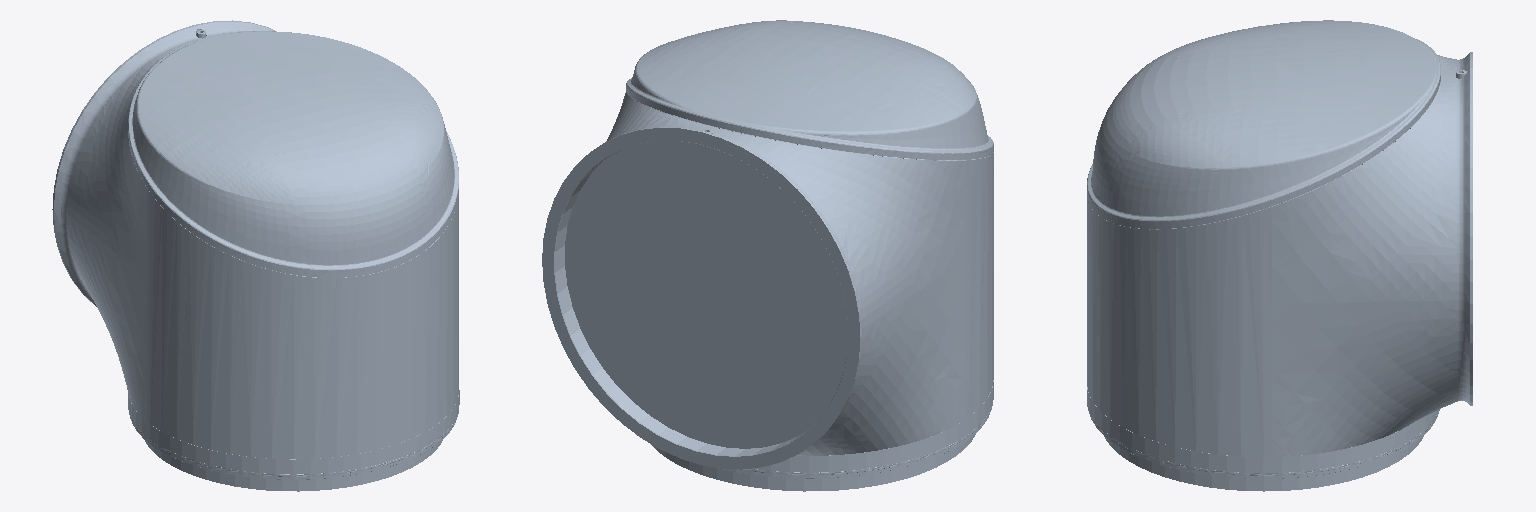
The robot description file, URDF, robot "gcr30_1100":
<?xml version="1.0" encoding="utf-8"?>
<!-- This URDF was automatically created by SolidWorks to URDF Exporter! Originally created by [author] ([email redacted]) 
     Commit Version: 1.6.0-4-g7f85cfe  Build Version: 1.6.7995.38578
     For more information, please see http://wiki.ros.org/sw_urdf_exporter -->
<robot
  name="gcr30_1100">
  <link
    name="base_link">
    <inertial>
      <origin
        xyz="1.0276E-05 0.014119 0.064841"
        rpy="0 0 0" />
      <mass
        value="2.128" />
      <inertia
        ixx="0.013624"
        ixy="-1.2075E-05"
        ixz="1.8225E-06"
        iyy="0.018307"
        iyz="0.00049878"
        izz="0.023934" />
    </inertial>
    <visual>
      <origin
        xyz="0 0 0"
        rpy="0 0 0" />
      <geometry>
        <mesh
          filename="package://duco_support/meshes/GCR30_1100/base_link.stl" />
      </geometry>
      <material
        name="">
        <color
          rgba="0.79216 0.81961 0.93333 1" />
      </material>
    </visual>
    <collision>
      <origin
        xyz="0 0 0"
        rpy="0 0 0" />
      <geometry>
        <mesh
          filename="package://duco_support/meshes/GCR30_1100/base_link.stl" />
      </geometry>
    </collision>
  </link>
  <link
    name="link_1">
    <inertial>
      <origin
        xyz="1.0951E-07 0.021145 0.0017549"
        rpy="0 0 0" />
      <mass
        value="14.725" />
      <inertia
        ixx="0.066928"
        ixy="3.4809E-07"
        ixz="2.7188E-07"
        iyy="0.06743"
        iyz="-0.0064955"
        izz="0.071272" />
    </inertial>
    <visual>
      <origin
        xyz="0 0 0"
        rpy="0 0 0" />
      <geometry>
        <mesh
          filename="package://duco_support/meshes/GCR30_1100/link_1.stl" />
      </geometry>
      <material
        name="">
        <color
          rgba="0.73333 0.78039 0.83922 1" />
      </material>
    </visual>
    <collision>
      <origin
        xyz="0 0 0"
        rpy="0 0 0" />
      <geometry>
        <mesh
          filename="package://duco_support/meshes/GCR30_1100/link_1.stl" />
      </geometry>
    </collision>
  </link>
  <joint
    name="arm_1_joint_1"
    type="revolute">
    <origin
      xyz="0 0 0.235"
      rpy="0 0 0" />
    <parent
      link="base_link" />
    <child
      link="link_1" />
    <axis
      xyz="0 0 1" />
    <limit
      lower="-3.1415926"
      upper="3.1415926"
      effort="850"
      velocity="2.094395102" />
  </joint>
  <link
    name="link_2">
    <inertial>
      <origin
        xyz="0.19999 -7.3565E-07 0.037425"
        rpy="0 0 0" />
      <mass
        value="25.912" />
      <inertia
        ixx="0.11326"
        ixy="-9.4175E-07"
        ixz="-0.0039858"
        iyy="0.16267"
        iyz="1.1586E-06"
        izz="0.16558" />
    </inertial>
    <visual>
      <origin
        xyz="0 0 0"
        rpy="0 0 0" />
      <geometry>
        <mesh
          filename="package://duco_support/meshes/GCR30_1100/link_2.stl" />
      </geometry>
      <material
        name="">
        <color
          rgba="0.79216 0.81961 0.93333 1" />
      </material>
    </visual>
    <collision>
      <origin
        xyz="0 0 0"
        rpy="0 0 0" />
      <geometry>
        <mesh
          filename="package://duco_support/meshes/GCR30_1100/link_2.stl" />
      </geometry>
    </collision>
  </link>
  <joint
    name="arm_1_joint_2"
    type="revolute">
    <origin
      xyz="0 0.1793 0"
      rpy="1.5708 -1.5708 3.1416" />
    <parent
      link="link_1" />
    <child
      link="link_2" />
    <axis
      xyz="0 0 1" />
    <limit
      lower="-3.1415926"
      upper="3.1415926"
      effort="850"
      velocity="2.094395102" />
  </joint>
  <link
    name="link_3">
    <inertial>
      <origin
        xyz="0.20158 -1.857E-07 -0.13238"
        rpy="0 0 0" />
      <mass
        value="7.595" />
      <inertia
        ixx="0.029966"
        ixy="1.4877E-07"
        ixz="0.0014216"
        iyy="0.076218"
        iyz="-3.8408E-08"
        izz="0.076757" />
    </inertial>
    <visual>
      <origin
        xyz="0 0 0"
        rpy="0 0 0" />
      <geometry>
        <mesh
          filename="package://duco_support/meshes/GCR30_1100/link_3.stl" />
      </geometry>
      <material
        name="">
        <color
          rgba="0.79216 0.81961 0.93333 1" />
      </material>
    </visual>
    <collision>
      <origin
        xyz="0 0 0"
        rpy="0 0 0" />
      <geometry>
        <mesh
          filename="package://duco_support/meshes/GCR30_1100/link_3.stl" />
      </geometry>
    </collision>
  </link>
  <joint
    name="arm_1_joint_3"
    type="revolute">
    <origin
      xyz="0.496 0 0"
      rpy="0 0 0" />
    <parent
      link="link_2" />
    <child
      link="link_3" />
    <axis
      xyz="0 0 1" />
    <limit
      lower="-3.1415926"
      upper="3.1415926"
      effort="440"
      velocity="3.1415926" />
  </joint>
  <link
    name="link_4">
    <inertial>
      <origin
        xyz="-8.671E-07 -0.0017736 -0.014039"
        rpy="0 0 0" />
      <mass
        value="4.705" />
      <inertia
        ixx="0.008699"
        ixy="-6.6695E-08"
        ixz="1.574E-08"
        iyy="0.0082917"
        iyz="0.00074702"
        izz="0.0086035" />
    </inertial>
    <visual>
      <origin
        xyz="0 0 0"
        rpy="0 0 0" />
      <geometry>
        <mesh
          filename="package://duco_support/meshes/GCR30_1100/link_4.stl" />
      </geometry>
      <material
        name="">
        <color
          rgba="0.79216 0.81961 0.93333 1" />
      </material>
    </visual>
    <collision>
      <origin
        xyz="0 0 0"
        rpy="0 0 0" />
      <geometry>
        <mesh
          filename="package://duco_support/meshes/GCR30_1100/link_4.stl" />
      </geometry>
    </collision>
  </link>
  <joint
    name="arm_1_joint_4"
    type="revolute">
    <origin
      xyz="0.4595 0 0"
      rpy="0 0 1.5708" />
    <parent
      link="link_3" />
    <child
      link="link_4" />
    <axis
      xyz="0 0 1" />
    <limit
      lower="-3.1415926"
      upper="3.1415926"
      effort="205"
      velocity="3.926990817" />
  </joint>
  <link
    name="link_5">
    <inertial>
      <origin
        xyz="-2.7502E-07 0.0017736 -0.014039"
        rpy="0 0 0" />
      <mass
        value="4.705" />
      <inertia
        ixx="0.008699"
        ixy="1.3768E-07"
        ixz="-1.0778E-07"
        iyy="0.0082917"
        iyz="-0.00074702"
        izz="0.0086035" />
    </inertial>
    <visual>
      <origin
        xyz="0 0 0"
        rpy="0 0 0" />
      <geometry>
        <mesh
          filename="package://duco_support/meshes/GCR30_1100/link_5.stl" />
      </geometry>
      <material
        name="">
        <color
          rgba="0.79216 0.81961 0.93333 1" />
      </material>
    </visual>
    <collision>
      <origin
        xyz="0 0 0"
        rpy="0 0 0" />
      <geometry>
        <mesh
          filename="package://duco_support/meshes/GCR30_1100/link_5.stl" />
      </geometry>
    </collision>
  </link>
  <joint
    name="arm_1_joint_5"
    type="revolute">
    <origin
      xyz="0 -0.1445 0"
      rpy="1.5708 0 0" />
    <parent
      link="link_4" />
    <child
      link="link_5" />
    <axis
      xyz="0 0 1" />
    <limit
      lower="-3.1415926"
      upper="3.1415926"
      effort="205"
      velocity="3.926990817" />
  </joint>
  <link
    name="link_6">
    <inertial>
      <origin
        xyz="2.5622E-07 0.00026203 -0.032568"
        rpy="0 0 0" />
      <mass
        value="1.652" />
      <inertia
        ixx="0.0010085"
        ixy="2.8568E-19"
        ixz="-1.2409E-18"
        iyy="0.0010085"
        iyz="-1.2499E-18"
        izz="0.0018936" />
    </inertial>
    <visual>
      <origin
        xyz="0 0 0"
        rpy="0 0 0" />
      <geometry>
        <mesh
          filename="package://duco_support/meshes/GCR30_1100/link_6.stl" />
      </geometry>
      <material
        name="">
        <color
          rgba="0.86667 0.86667 0.8902 1" />
      </material>
    </visual>
    <collision>
      <origin
        xyz="0 0 0"
        rpy="0 0 0" />
      <geometry>
        <mesh
          filename="package://duco_support/meshes/GCR30_1100/link_6.stl" />
      </geometry>
    </collision>
  </link>
  <joint
    name="arm_1_joint_6"
    type="revolute">
    <origin
      xyz="0 0.121 0"
      rpy="-1.5708 0 0" />
    <parent
      link="link_5" />
    <child
      link="link_6" />
    <axis
      xyz="0 0 1" />
    <limit
      lower="-3.1415926"
      upper="3.1415926"
      effort="205"
      velocity="3.926990817" />
  </joint>
</robot>

--- What the picture shows (computed from the rendered views, not written in the file) ---
The picture shows the robot from 3 angles, left to right: view 1: azimuth 30°, elevation 25°; view 2: azimuth 150°, elevation 25°; view 3: azimuth 270°, elevation 25°; orthographic projection.
Model gcr30_1100 with 7 links and 6 joints (6 revolute), rooted at base_link, posed all joints at 0.
Visible links, largest first — view 1: link_1; view 2: link_1; view 3: link_1.
Link boxes in pixels (x1,y1,x2,y2): link_1: [52, 20, 459, 491]; link_1: [542, 20, 993, 491]; link_1: [1087, 20, 1472, 491].
Size in the robot's own frame: 0.1802 by 0.1965 by 0.1986 metres.
1 mesh visuals loaded from 7 distinct referenced files (1 binary STL); not drawn: 6 (reference not matched to a file when rendering).